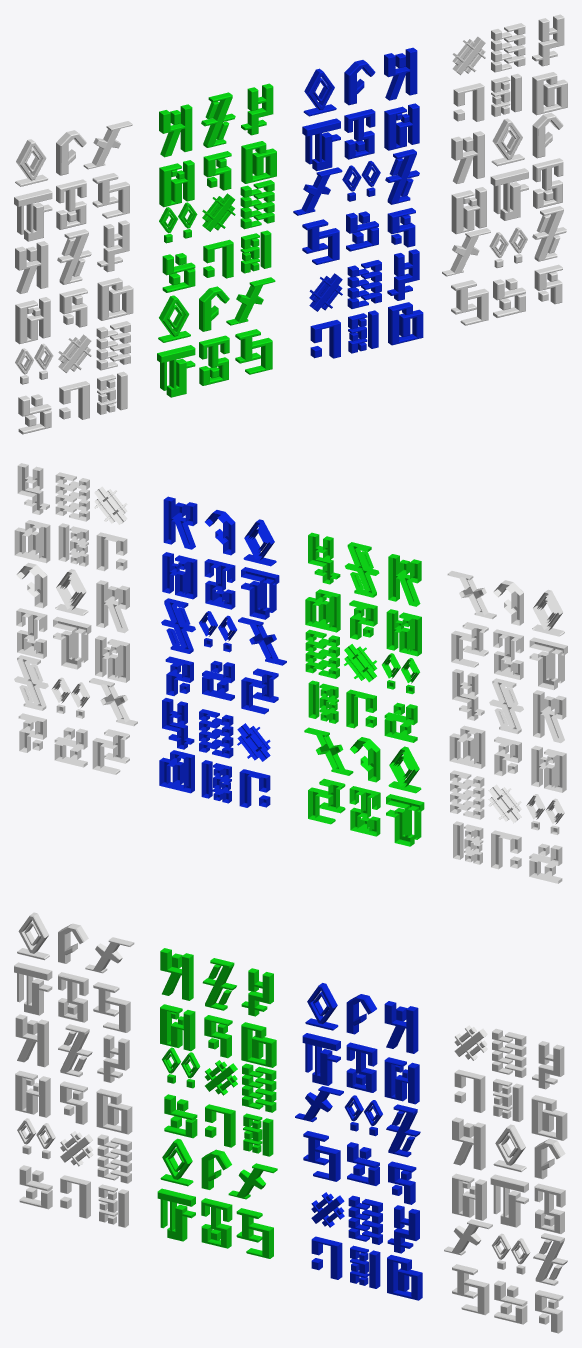
The model's file is Pollack_Hieroglyphics.fbx.
3 views of the same model, one above another, from view 1: azimuth 30°, elevation 25°; view 2: azimuth 150°, elevation 25°; view 3: azimuth 330°, elevation 25° (orthographic).
Parts seen in each view (by area): view 1: Hieroglyph_E.001, Hieroglyph_E, Hieroglyphs_JOINED_C, Hieroglyphs_JOINED_B.002; view 2: Hieroglyph_E.001, Hieroglyphs_JOINED_C, Hieroglyph_E, Hieroglyphs_JOINED_B.002; view 3: Hieroglyph_E.001, Hieroglyphs_JOINED_C, Hieroglyph_E, Hieroglyphs_JOINED_B.002.
Boxes of the visible parts, left/top/right/bottom form: Hieroglyph_E.001: left=442, top=14, right=567, bottom=325; Hieroglyph_E: left=14, top=121, right=133, bottom=434; Hieroglyphs_JOINED_C: left=293, top=47, right=423, bottom=358; Hieroglyphs_JOINED_B.002: left=157, top=83, right=276, bottom=397; Hieroglyph_E.001: left=14, top=463, right=137, bottom=774; Hieroglyphs_JOINED_C: left=159, top=496, right=286, bottom=807; Hieroglyph_E: left=447, top=571, right=567, bottom=883; Hieroglyphs_JOINED_B.002: left=304, top=532, right=424, bottom=846; Hieroglyph_E.001: left=444, top=1025, right=567, bottom=1333; Hieroglyphs_JOINED_C: left=295, top=983, right=422, bottom=1300; Hieroglyph_E: left=14, top=912, right=134, bottom=1227; Hieroglyphs_JOINED_B.002: left=157, top=948, right=277, bottom=1258.
Size of the model in its own units: 1680 by 844 by 33.82.
